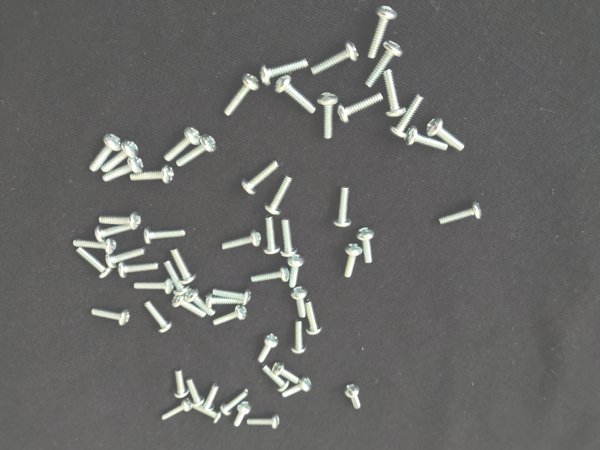shortscrew: (365, 42, 404, 87), (388, 94, 425, 139), (368, 5, 398, 60), (275, 75, 317, 114), (224, 73, 261, 116), (311, 42, 359, 75), (426, 117, 467, 152), (337, 93, 384, 123), (176, 133, 217, 167), (164, 126, 202, 162), (242, 160, 280, 195), (89, 132, 122, 172), (259, 60, 309, 86), (102, 139, 139, 173), (383, 69, 408, 118), (265, 174, 294, 215), (77, 247, 113, 280), (404, 126, 449, 152), (438, 202, 483, 227), (103, 157, 143, 182), (222, 228, 262, 252), (171, 248, 196, 285), (145, 300, 173, 333), (106, 247, 147, 269), (164, 259, 189, 295), (318, 92, 337, 139), (262, 363, 290, 393), (130, 165, 174, 184), (220, 389, 249, 417), (185, 289, 215, 316), (92, 306, 131, 326), (334, 187, 353, 227), (212, 306, 248, 327), (144, 227, 186, 245), (73, 237, 117, 254), (118, 261, 159, 279), (99, 213, 141, 230), (264, 216, 282, 255), (271, 361, 300, 385), (173, 296, 206, 317), (282, 376, 312, 399), (280, 219, 298, 257), (258, 333, 279, 365), (134, 278, 175, 294), (344, 244, 363, 278), (286, 254, 305, 288), (305, 301, 323, 336), (357, 227, 374, 264), (191, 404, 222, 424), (251, 267, 289, 283), (162, 400, 192, 420), (290, 287, 309, 318), (291, 320, 308, 354), (247, 413, 281, 430), (96, 226, 130, 243), (201, 383, 220, 412), (232, 401, 252, 428), (187, 378, 205, 406), (344, 383, 362, 410), (173, 369, 189, 399)
